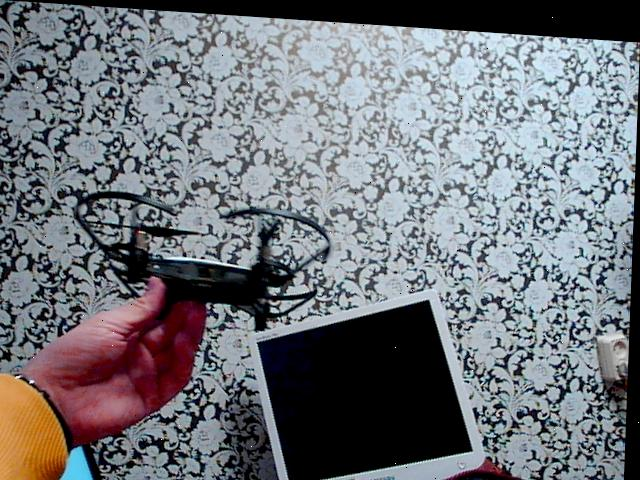drone: (62, 163, 338, 342)
